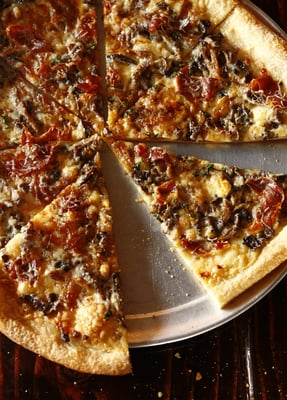sandwich: (1, 0, 287, 395), (104, 140, 287, 309), (101, 0, 286, 144)
